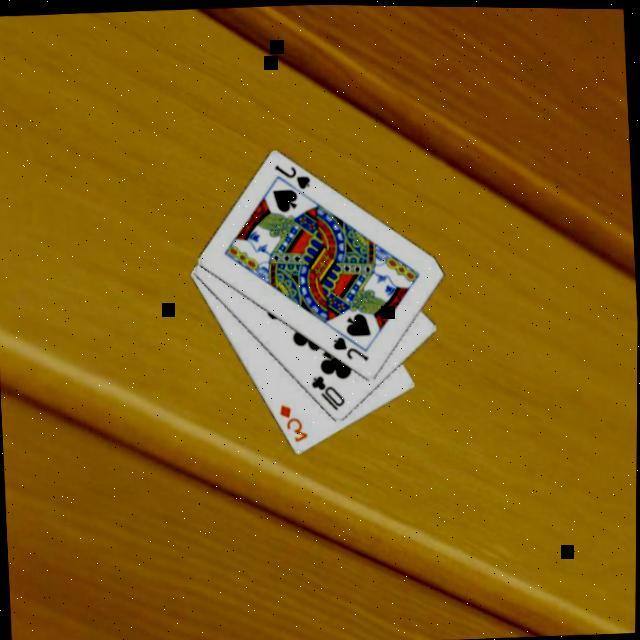10C: (307, 372, 347, 417)
3D: (276, 401, 310, 448)
JS: (270, 160, 314, 196), (328, 333, 372, 367)
